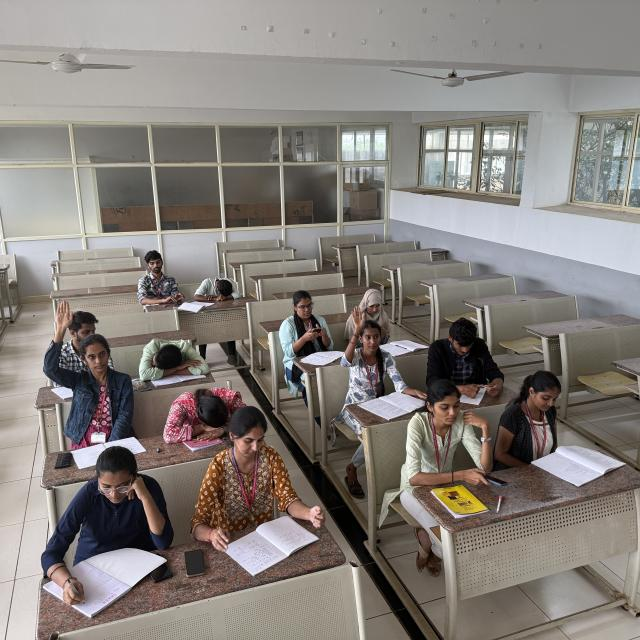Hand Rising: (40, 298, 130, 433), (342, 307, 398, 398)
Reading: (203, 408, 321, 550), (489, 368, 586, 469)
Sleeping: (163, 385, 254, 438), (138, 322, 212, 378), (194, 270, 248, 306)
Using Phone: (276, 288, 332, 356), (138, 250, 188, 309), (352, 288, 397, 341)
Writing: (39, 456, 157, 619), (435, 315, 511, 406)
